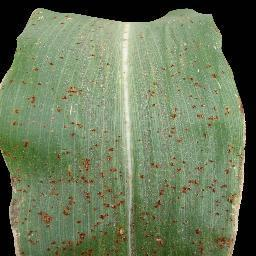Corn_Common_Rust: (0, 6, 112, 256), (142, 61, 249, 256), (113, 128, 142, 256), (210, 9, 225, 61), (168, 9, 201, 30), (171, 40, 203, 57), (134, 27, 146, 41)
